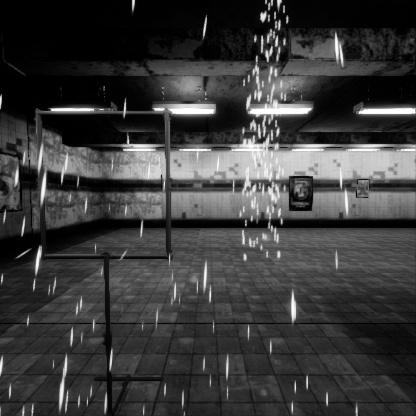gate: (35, 155, 184, 306)
